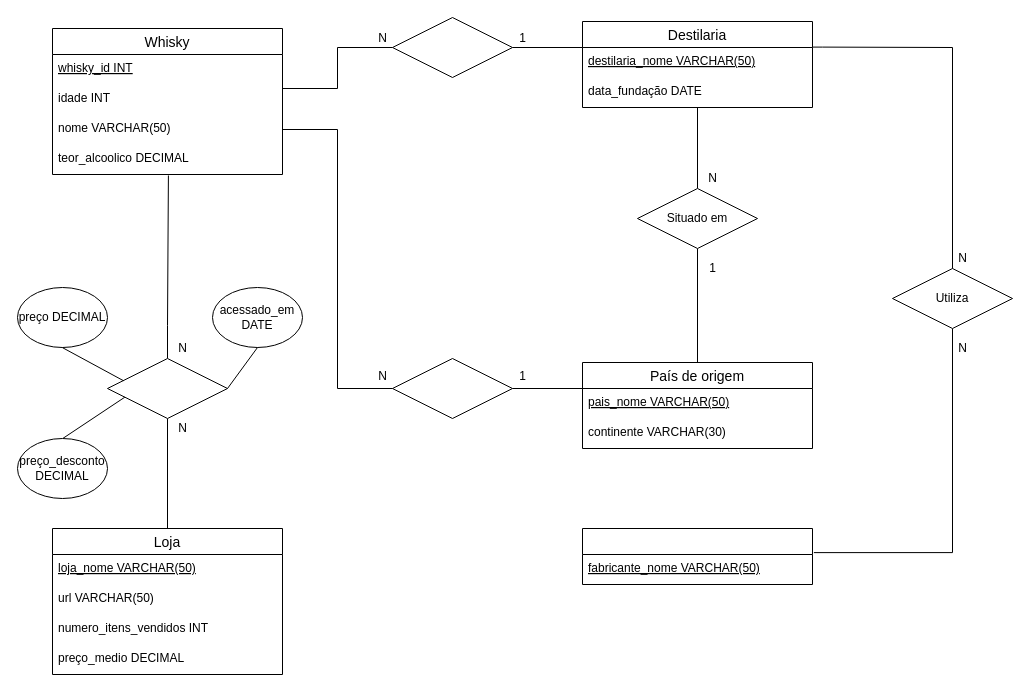
The diagram is 1030 pixels wide and 695 high, and some of its shapes have lost their labels. Here are the shapes that lost their labels. From the top down, the box of each, then its label:
(392, 16, 512, 78): Destilado por
(106, 358, 228, 418): Vende
(392, 358, 512, 418): Originado em
(582, 528, 812, 584): Ingrediente
